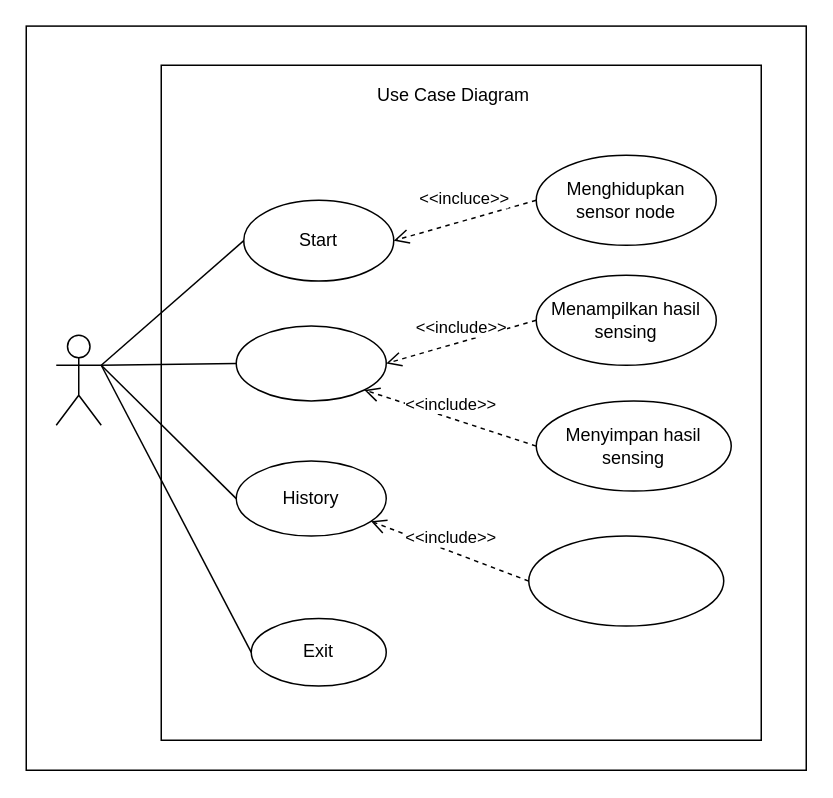
Some shapes in this 833 by 798 pixel diagram are drawn without their labels. The box of each missing label's shape, as (x1, y1, x2, y2) in pixels:
Menampilkan kembali hasil sensing sebelumnya: (527, 535, 724, 626)
Sense: (235, 324, 386, 401)
User: (55, 334, 101, 425)
